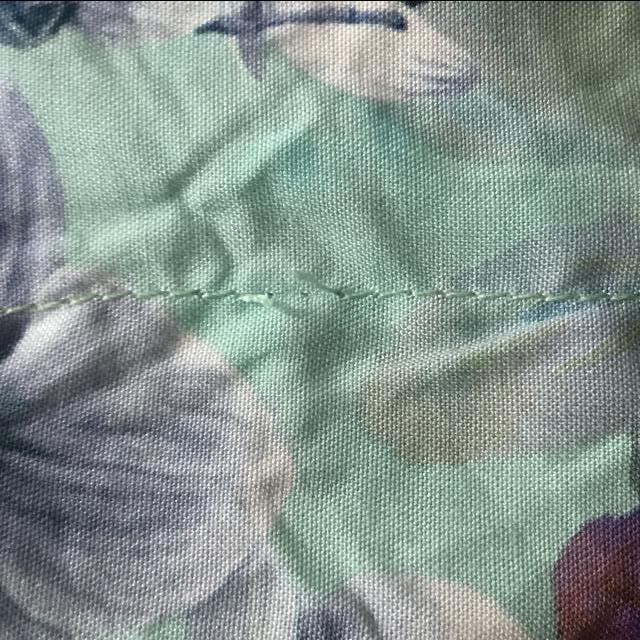Broken: (214, 252, 378, 324)
